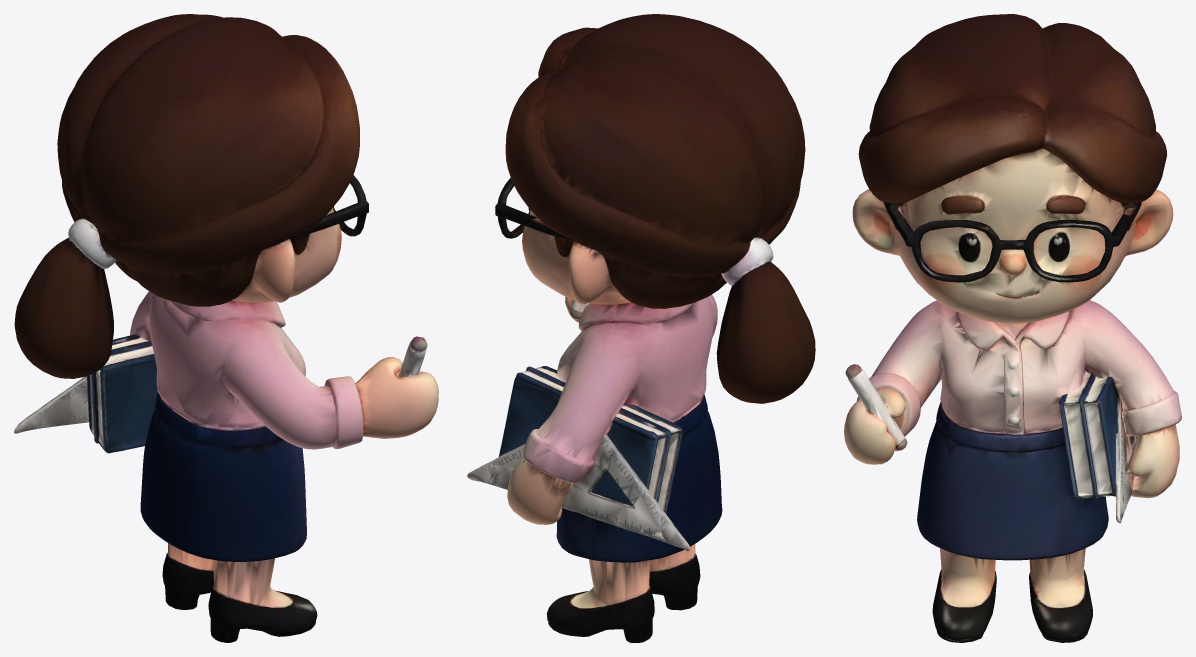
3 views of the same model, side by side, from view 1: azimuth 30°, elevation 25°; view 2: azimuth 150°, elevation 25°; view 3: azimuth 270°, elevation 25° (orthographic). The views are drawn at different scales.
Size of the model in its own units: 1.15 by 2 by 1.05.
1 material, 1 textured.
